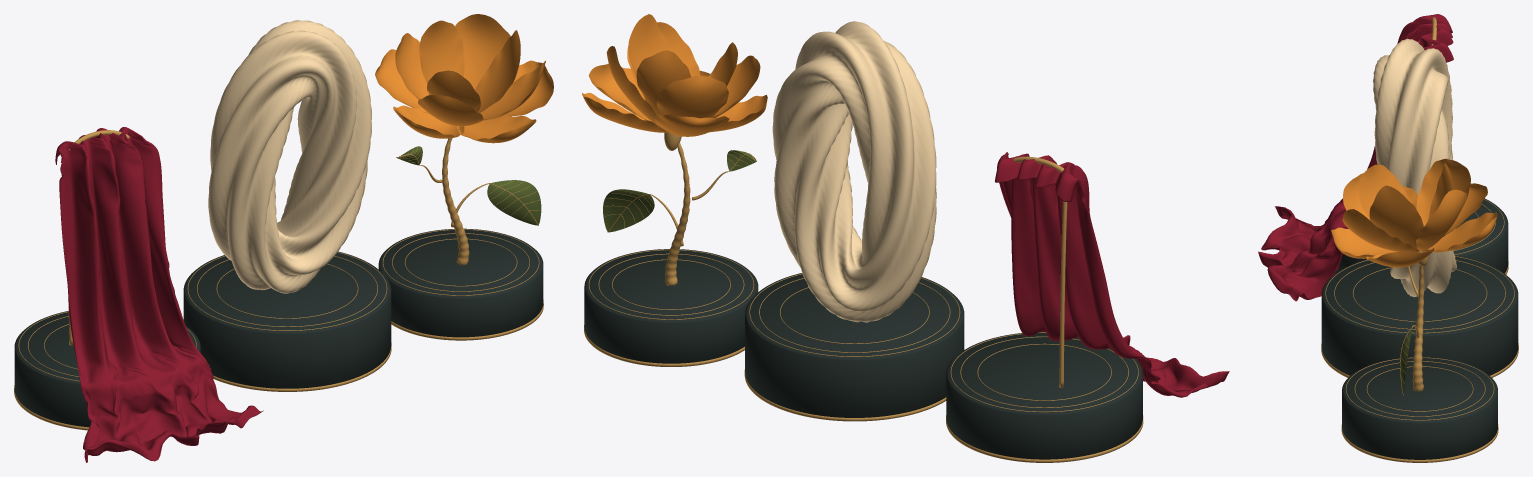
Rendered from soft-matter.glb.
The picture shows the model from 3 angles, left to right: view 1: azimuth 30°, elevation 25°; view 2: azimuth 150°, elevation 25°; view 3: azimuth 270°, elevation 25°; orthographic projection. The views are drawn at different scales.
Visible parts, largest first — view 1: stone, velvet, wax, petal, brass, leaf; view 2: stone, wax, velvet, petal, brass, leaf; view 3: stone, petal, wax, velvet, brass, leaf.
Boxes of the visible parts, bbox=[...] form: stone: bbox=[14, 228, 543, 427]; velvet: bbox=[55, 127, 263, 462]; wax: bbox=[208, 20, 371, 293]; petal: bbox=[375, 14, 553, 143]; brass: bbox=[14, 130, 543, 430]; leaf: bbox=[396, 146, 541, 225]; stone: bbox=[584, 249, 1142, 459]; wax: bbox=[772, 21, 936, 322]; velvet: bbox=[995, 152, 1229, 397]; petal: bbox=[582, 14, 767, 136]; brass: bbox=[584, 132, 1143, 462]; leaf: bbox=[603, 150, 756, 232]; stone: bbox=[1321, 198, 1518, 459]; petal: bbox=[1331, 158, 1497, 267]; wax: bbox=[1373, 38, 1456, 297]; velvet: bbox=[1258, 14, 1453, 301]; brass: bbox=[1321, 17, 1518, 462]; leaf: bbox=[1400, 328, 1411, 394].
Bounding box in the file's own units: 8.55 × 5 × 3.84.
